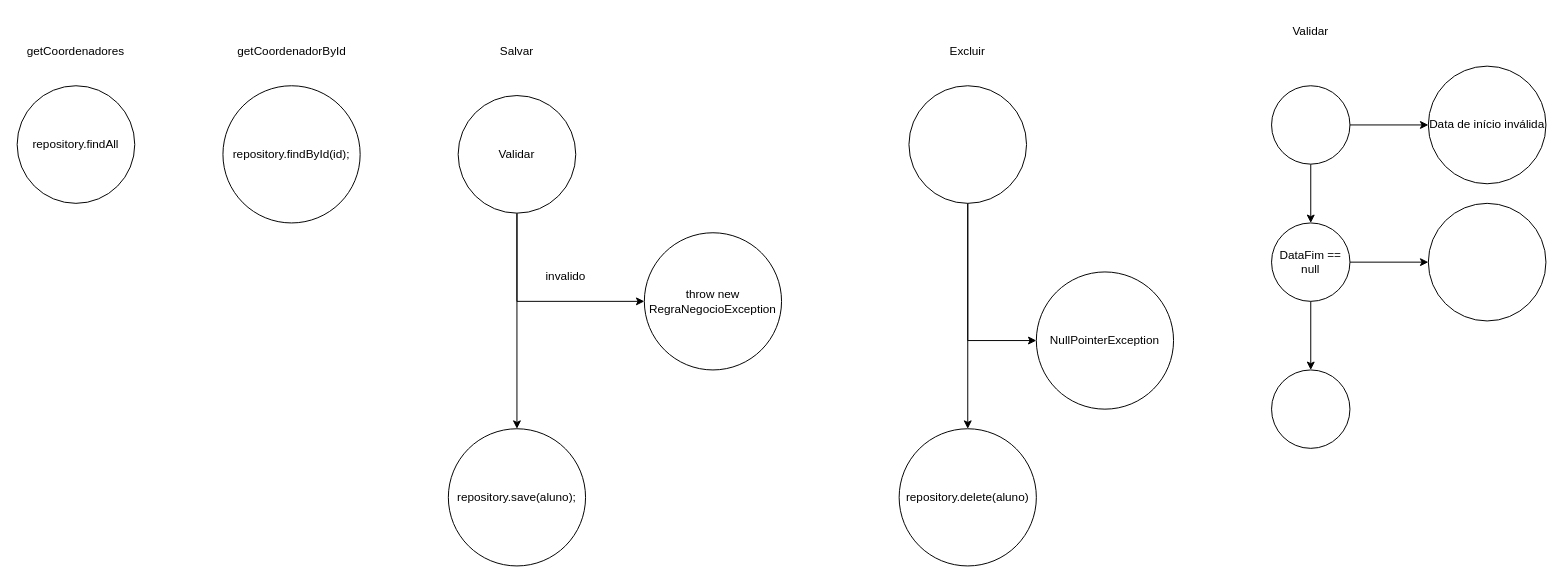
Image size: 1563x583. Some labels were removed from this diagram. The shapes that lost their labels are listed below. From the top down, each one's box as (x1, y1, x2, y2) in pixels, then its label:
(908, 85, 1027, 203): NonNull
(1271, 85, 1350, 164): DataInicio == null
(1427, 202, 1546, 321): Data de fim inválida
(1271, 369, 1350, 448): Coordenador valido
